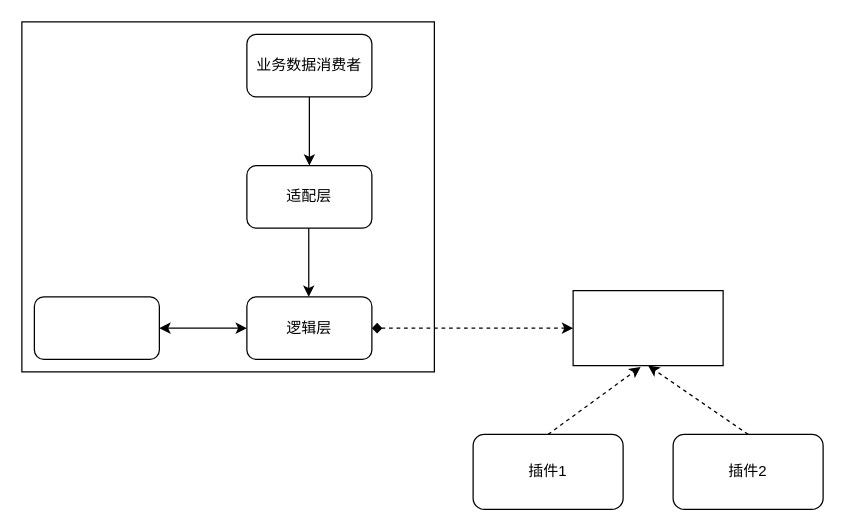
Image size: 845x531. Some labels were removed from this diagram. Here are the shapes that lost their labels. From the top down, the centre of each, then its label:
At (96,327): "配置服务".
At (647,327): "插件接口".
